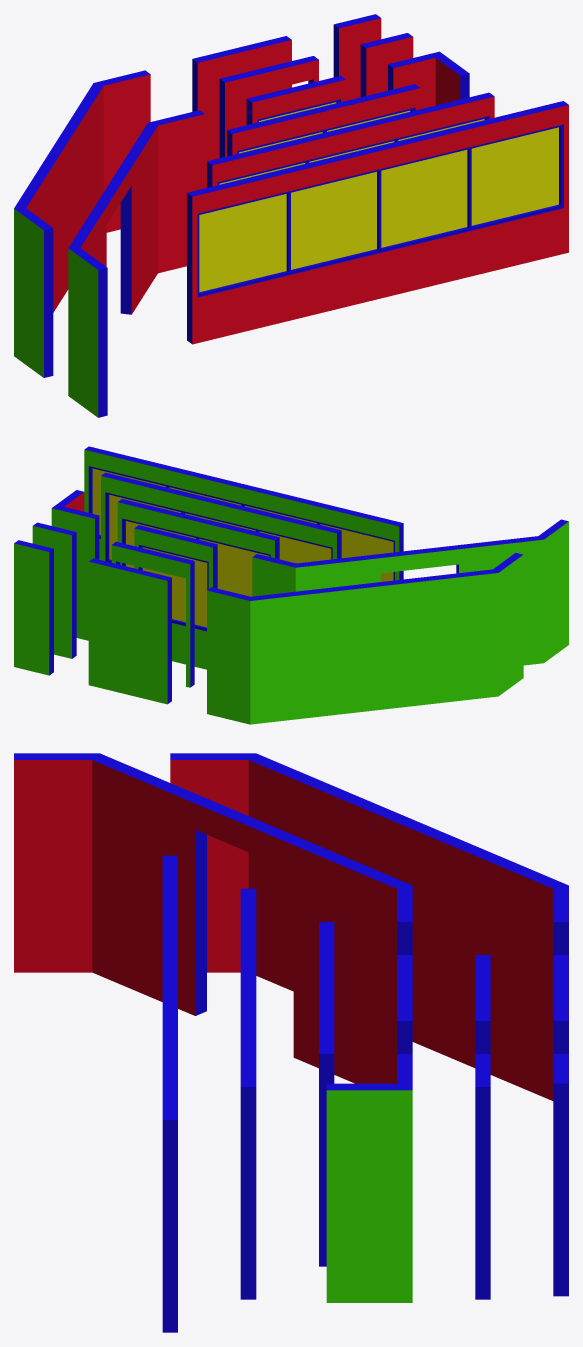
Rendered from modularWalls 1.fbx.
3 views of the same model, one above another, from view 1: azimuth 30°, elevation 25°; view 2: azimuth 150°, elevation 25°; view 3: azimuth 270°, elevation 25° (orthographic). The views are drawn at different scales.
Parts seen in each view (by area): view 1: QuadrupleWindow, QuadrupleWindow_Glass, DiagonalDoorway, DiagonalWall, TripleWindow, DoubleWindow, Wall, Corner, Doorway, Window, HalfWall_v2, HalfWall; view 2: DiagonalWall, DiagonalDoorway, Wall, QuadrupleWindow, TripleWindow, HalfWall_v2, DoubleWindow, HalfWall, Window, Corner, Doorway, DoubleWindow_Glass (+3 smaller); view 3: DiagonalDoorway, DiagonalWall, Corner, QuadrupleWindow, TripleWindow, DoubleWindow, HalfWall, HalfWall_v2, Window, Wall, Doorway.
Part boxes in pixels (box(x1,y1,x2,y2)): QuadrupleWindow: box(187, 101, 568, 344); QuadrupleWindow_Glass: box(199, 127, 558, 292); DiagonalDoorway: box(68, 110, 204, 417); DiagonalWall: box(14, 70, 150, 377); TripleWindow: box(207, 92, 494, 187); DoubleWindow: box(227, 84, 420, 156); Wall: box(192, 36, 291, 188); Corner: box(388, 51, 469, 108); Doorway: box(219, 56, 318, 157); Window: box(246, 75, 346, 124); HalfWall_v2: box(333, 14, 381, 100); HalfWall: box(360, 33, 413, 97); DiagonalWall: box(207, 553, 523, 724); DiagonalDoorway: box(252, 519, 568, 665); Wall: box(88, 558, 171, 704); QuadrupleWindow: box(84, 446, 403, 580); TripleWindow: box(101, 472, 341, 562); HalfWall_v2: box(14, 540, 53, 675); DoubleWindow: box(117, 499, 279, 566); HalfWall: box(32, 522, 76, 658); Window: box(134, 525, 217, 669); Corner: box(51, 490, 99, 640); Doorway: box(111, 541, 194, 687); DoubleWindow_Glass: box(126, 521, 269, 596); DiagonalDoorway: box(14, 753, 412, 1083); DiagonalWall: box(170, 753, 568, 1100); Corner: box(326, 1054, 412, 1302); QuadrupleWindow: box(162, 855, 177, 1332); TripleWindow: box(240, 888, 256, 1299); DoubleWindow: box(319, 922, 334, 1266); HalfWall: box(475, 1054, 490, 1299); HalfWall_v2: box(553, 1054, 568, 1296); Window: box(397, 955, 412, 1053); Wall: box(553, 955, 568, 1053); Doorway: box(475, 955, 490, 1053).
Size of the model in its own units: 11.1 by 3 by 7.1.
